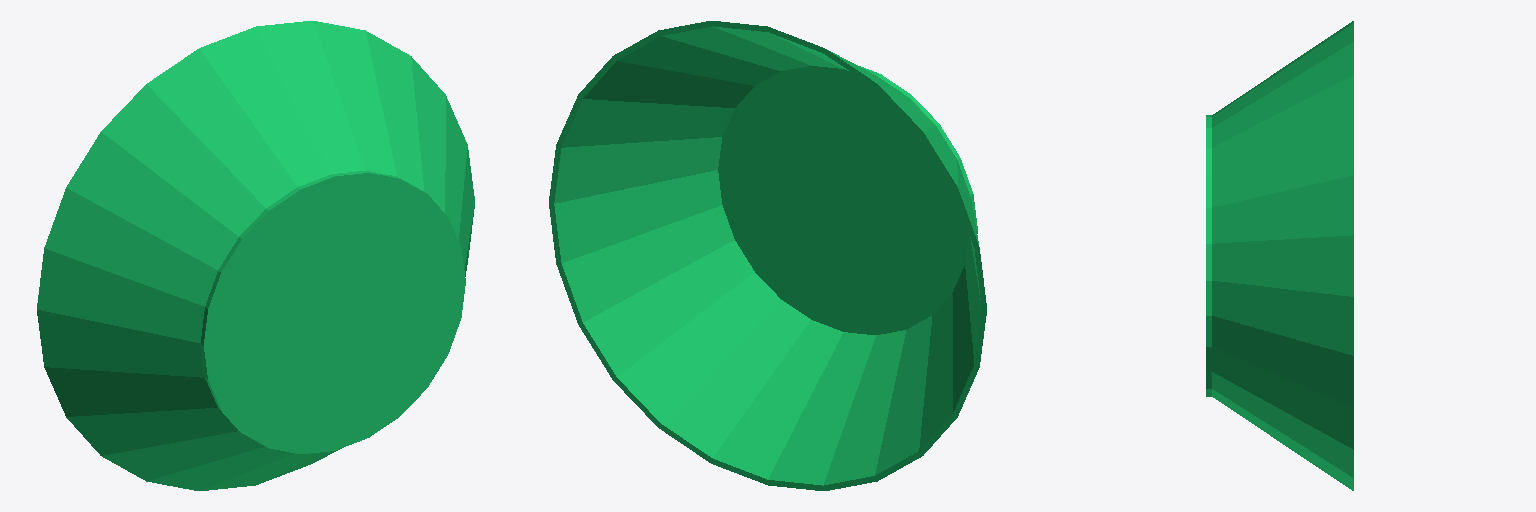
URDF robot description (urdf_robot):
<?xml version="0.0" ?>
<robot name="urdf_robot">
  <link name="base_link">
    <contact>
      <lateral_friction value="1.0"/>
      <rolling_friction value="0.001"/>
      <contact_cfm value="0.0"/>
      <contact_erp value="1.0"/>
    </contact>
    <inertial>
      <origin rpy="0 0 0" xyz="0 0 0"/>
       <mass value="1.0"/>
       <inertia ixx="0" ixy="-0.999025" ixz="-0.044141" iyy="0" iyz="0" izz="-0.999025"/>
    </inertial>
    <visual>
      <origin rpy="0 0 0" xyz="0 0 0"/>
      <geometry>
				<mesh filename="bowl.obj" scale="0.3 0.3 0.3"/>      
      </geometry>
      <material name="green">
        <color rgba="0.16 0.80 0.46 1"/>
      </material>
    </visual>
    <collision>
      <origin rpy="0 0 0" xyz="0 0 0"/>
      <geometry>
				<mesh filename="bowl.obj" scale="0.3 0.3 0.3"/>      
      </geometry>
    </collision>
  </link>
</robot>

--- What the picture shows (computed from the rendered views, not written in the file) ---
Views: 3 orthographic renders of the robot side by side, from view 1: azimuth 30°, elevation 25°; view 2: azimuth 150°, elevation 25°; view 3: azimuth 270°, elevation 25°.
Robot: urdf_robot — 1 links, 0 joints (none); root link base_link; default pose: every joint at zero.
Visible links, largest first — view 1: base_link; view 2: base_link; view 3: base_link.
Boxes of the visible links, x1,y1,x2,y2 form: base_link: [37, 21, 474, 490]; base_link: [549, 21, 986, 490]; base_link: [1206, 21, 1353, 490].
Bounding box of the posed robot: 0.1529 × 0.0476 × 0.1529 m (x, y, z).
Meshes: 1 distinct files referenced, 1 mesh visuals loaded (1 OBJ).